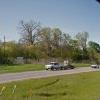Car: (43, 57, 74, 74)
